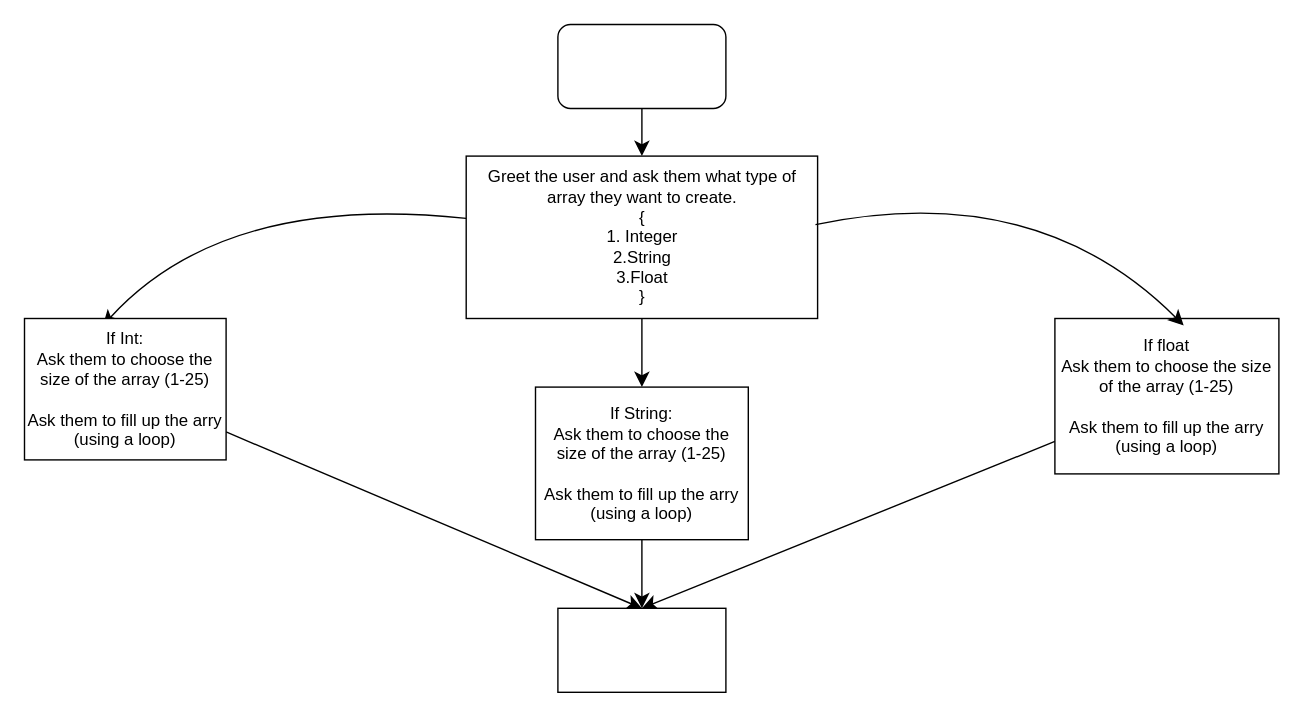
The diagram is 1303 pixels wide and 717 high, and some of its shapes have lost their labels. Each missing label, with the box of its shape:
PRINT THE ARRAY: (556, 607, 726, 692)
Start: (556, 23, 726, 108)
